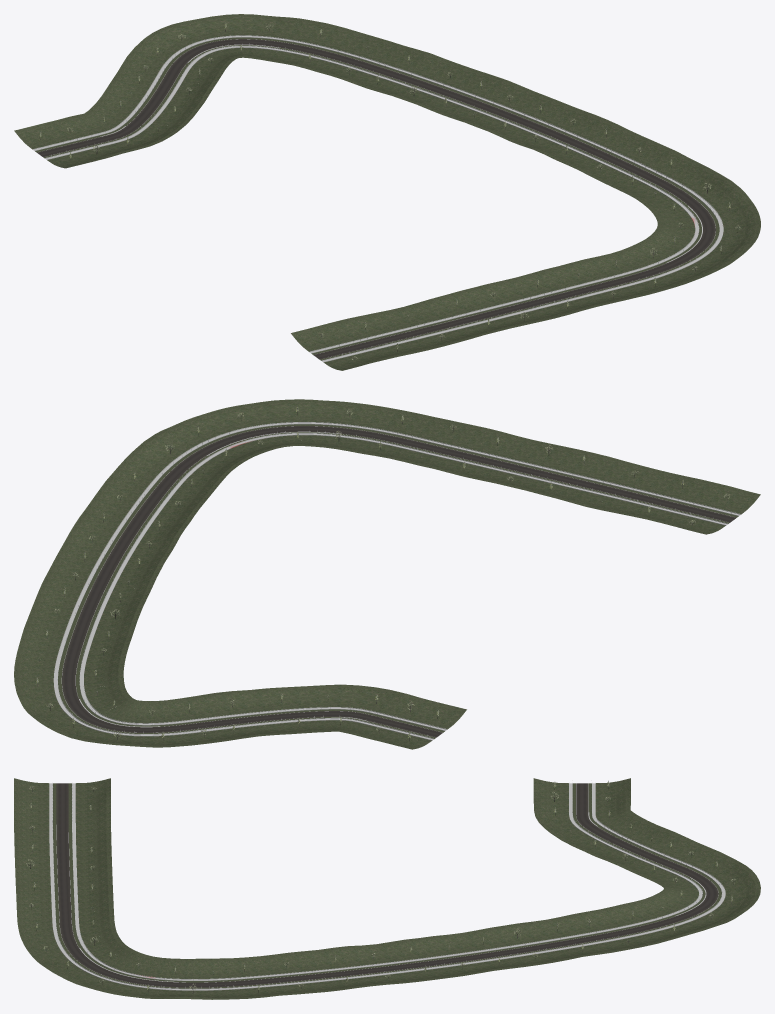
3 renders of one model, top to bottom at view 1: azimuth 30°, elevation 25°; view 2: azimuth 150°, elevation 25°; view 3: azimuth 270°, elevation 25°, orthographic. The views are drawn at different scales.
Visible parts, largest first — view 1: Grass, Road, Track, Trees; view 2: Grass, Road, Track, Trees; view 3: Grass, Road, Track, Trees.
Part boxes in pixels (x1,y1,x2,y2): Grass: (14,14,760,370); Road: (37,39,715,359); Track: (33,35,723,362); Trees: (39,22,741,359); Grass: (14,399,760,749); Road: (62,426,736,737); Track: (53,422,740,740); Trees: (36,405,729,741); Grass: (14,778,760,999); Road: (56,783,718,987); Track: (49,783,725,990); Trees: (26,780,736,993).
Size of the model in its own units: 75966 by 1994 by 107777.
